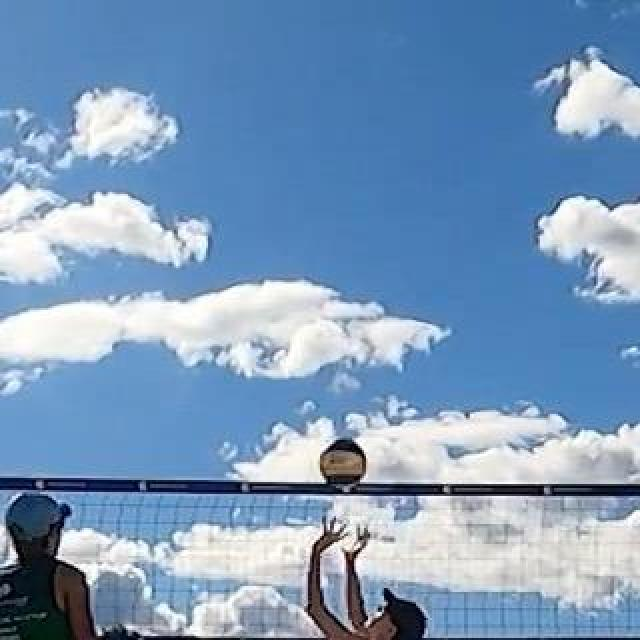volleyball: (321, 439, 367, 483)
